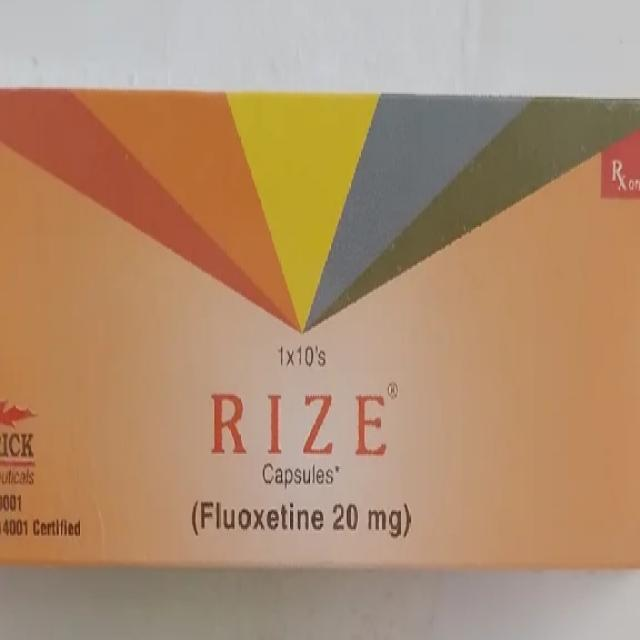drug-name: (205, 390, 386, 461)
